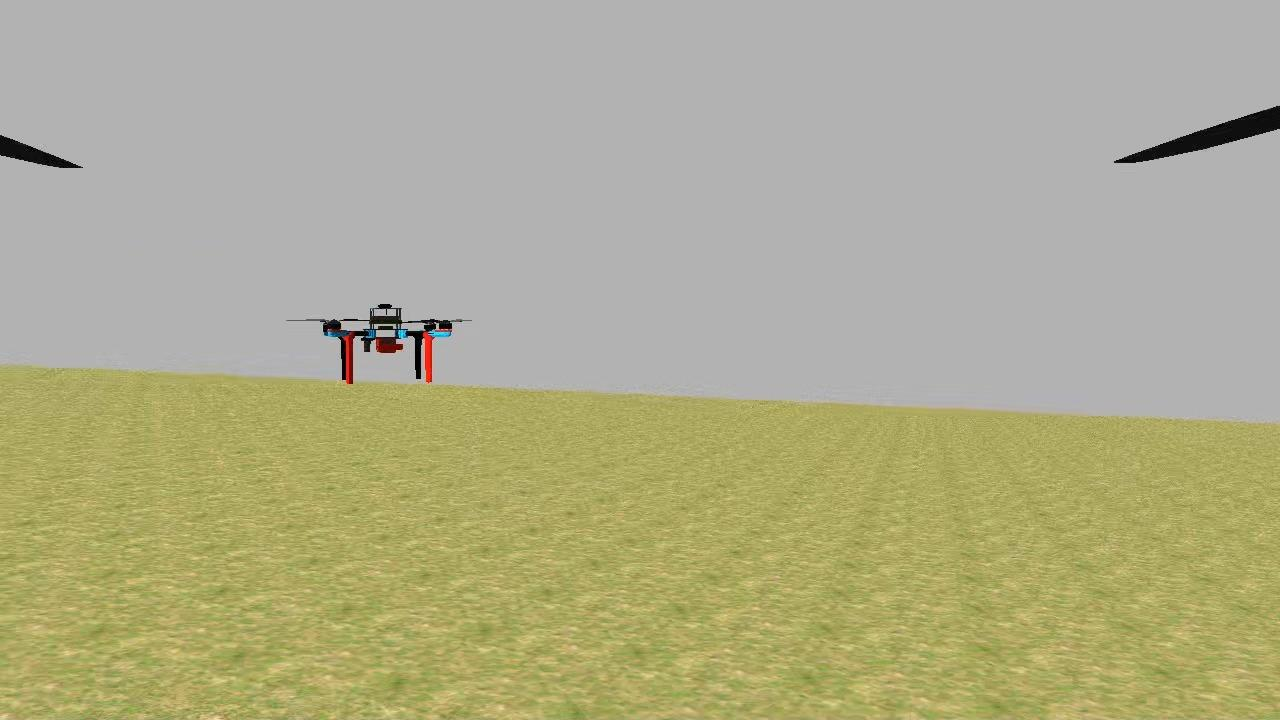UAV: (317, 297, 460, 389)
